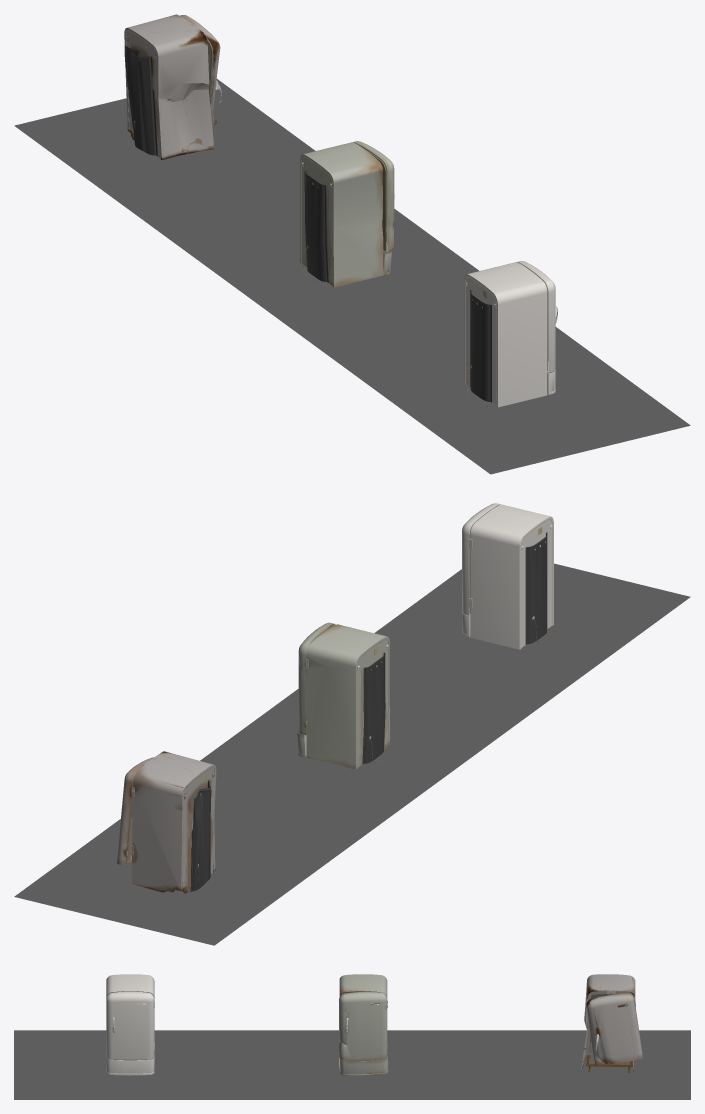
The model's file is homework_destruction.glb.
3 views of the same model, one above another, from view 1: azimuth 30°, elevation 25°; view 2: azimuth 150°, elevation 25°; view 3: azimuth 270°, elevation 25° (orthographic). The views are drawn at different scales.
Parts seen in each view (by area): view 1: Plane.011_57, Cube.011_15, Cube.025_37, Cube_0, Plane_3, Plane.003_41, Plane.004_19, Cube.026_38, Cube.012_16, Cube.001_1; view 2: Plane.011_57, Cube_0, Cube.025_37, Cube.011_15, Plane.004_19, Plane.003_41, Plane_3, Cube.001_1, Cube.026_38, Cube.012_16; view 3: Plane.011_57, Cube.001_1, Cube.012_16, Cube.026_38, Cube_0, Cube.025_37, Cube.011_15, Cube.013_17, Cube.027_39.
Boxes of the visible parts, <box> form: Plane.011_57: <box>14,79,690,474</box>; Cube.011_15: <box>464,262,547,407</box>; Cube.025_37: <box>300,142,383,287</box>; Cube_0: <box>124,14,214,159</box>; Plane_3: <box>124,45,157,155</box>; Plane.003_41: <box>304,171,328,282</box>; Plane.004_19: <box>470,290,491,402</box>; Cube.026_38: <box>353,141,394,252</box>; Cube.012_16: <box>517,261,555,372</box>; Cube.001_1: <box>180,15,220,126</box>; Plane.011_57: <box>14,563,690,945</box>; Cube_0: <box>132,751,216,893</box>; Cube.025_37: <box>306,624,389,769</box>; Cube.011_15: <box>470,504,553,649</box>; Plane.004_19: <box>525,532,547,644</box>; Plane.003_41: <box>362,652,385,764</box>; Plane_3: <box>190,780,211,891</box>; Cube.001_1: <box>116,757,153,865</box>; Cube.026_38: <box>298,622,334,735</box>; Cube.012_16: <box>462,503,500,614</box>; Plane.011_57: <box>14,1030,690,1099</box>; Cube.001_1: <box>586,993,642,1065</box>; Cube.012_16: <box>106,991,154,1059</box>; Cube.026_38: <box>339,992,387,1060</box>; Cube_0: <box>581,974,635,1071</box>; Cube.025_37: <box>339,974,387,1068</box>; Cube.011_15: <box>106,974,154,998</box>; Cube.013_17: <box>106,1057,154,1075</box>; Cube.027_39: <box>339,1056,388,1075</box>.
Size of the model in its own units: 9.14 by 5.01 by 37.65.
Materials: 16 (2 with a texture image).
